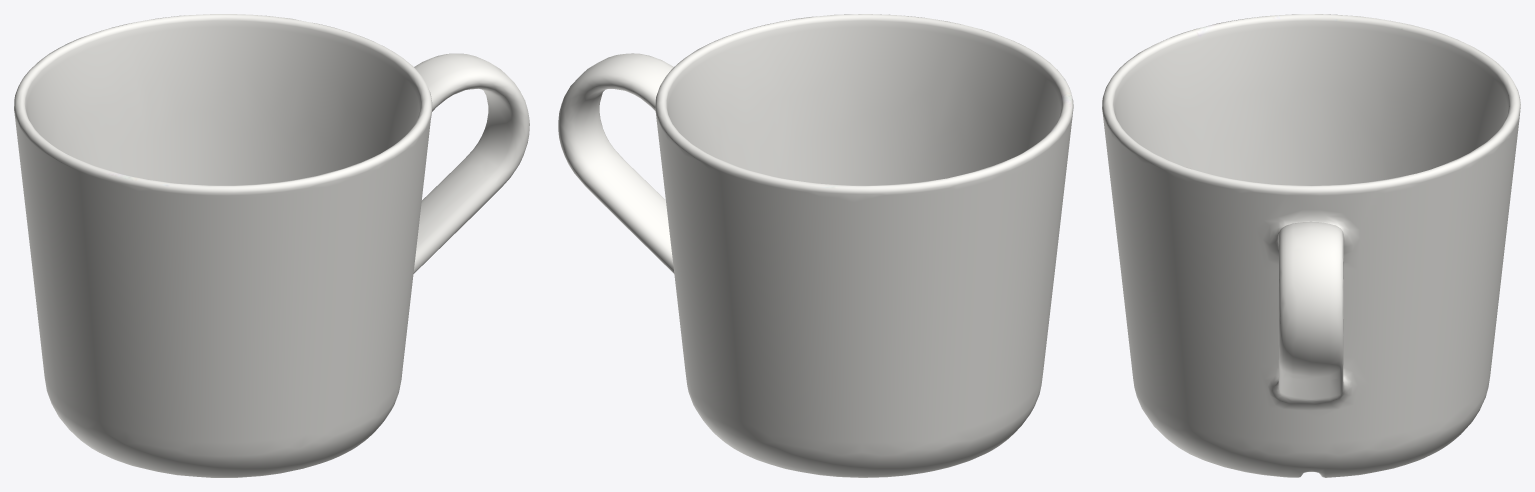
The model's file is ikea_365_kubek_80278367.glb.
The picture shows the model from 3 angles, left to right: view 1: azimuth 30°, elevation 25°; view 2: azimuth 150°, elevation 25°; view 3: azimuth 270°, elevation 25°; orthographic projection.
Visible parts, largest first — view 1: ikea_365_kubek_80278367; view 2: ikea_365_kubek_80278367; view 3: ikea_365_kubek_80278367.
Part boxes in pixels (x1,y1,x2,y2): ikea_365_kubek_80278367: (14,14,529,477); ikea_365_kubek_80278367: (558,14,1073,477); ikea_365_kubek_80278367: (1102,14,1520,477).
Size of the model in its own units: 0.1361 by 0.0848 by 0.1031.
1 material, 1 textured.
